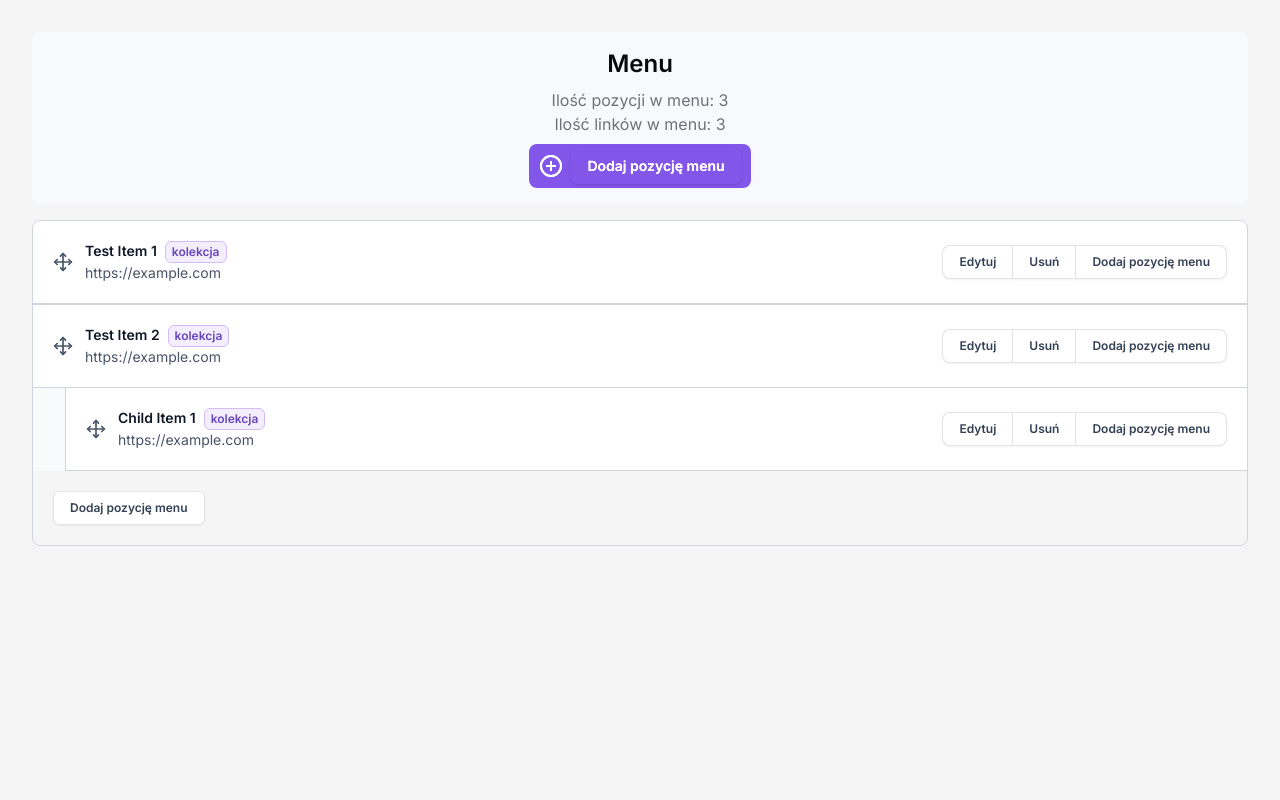
Test: NavigationManager › pokazuje formularz dodawania po kliknięciu przycisku
Step 1. Click the button "Dodaj pozycję menu" below "Ilość linków w menu:" → {"x": 656, "y": 166}, box [571,148,741,184]
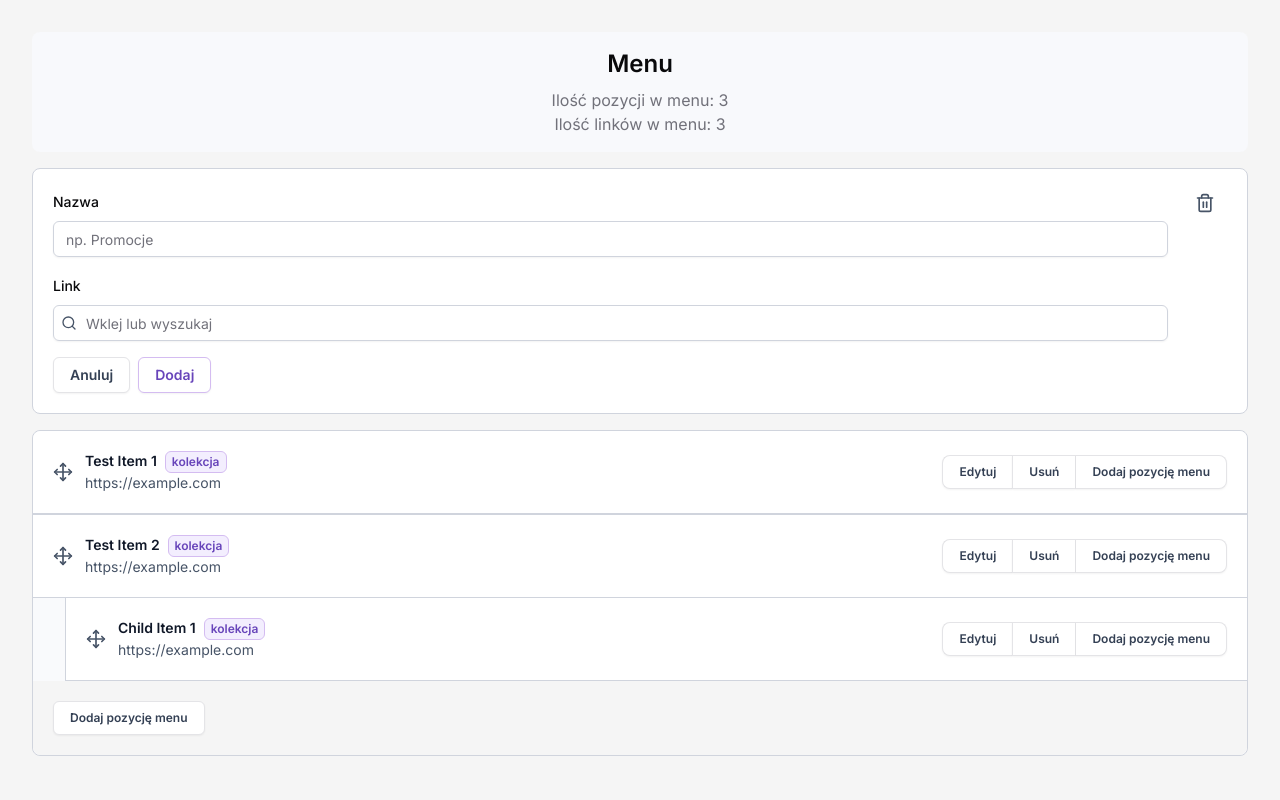
Now the form with test id "navigation-form" is shown, box [53,189,1168,393]
